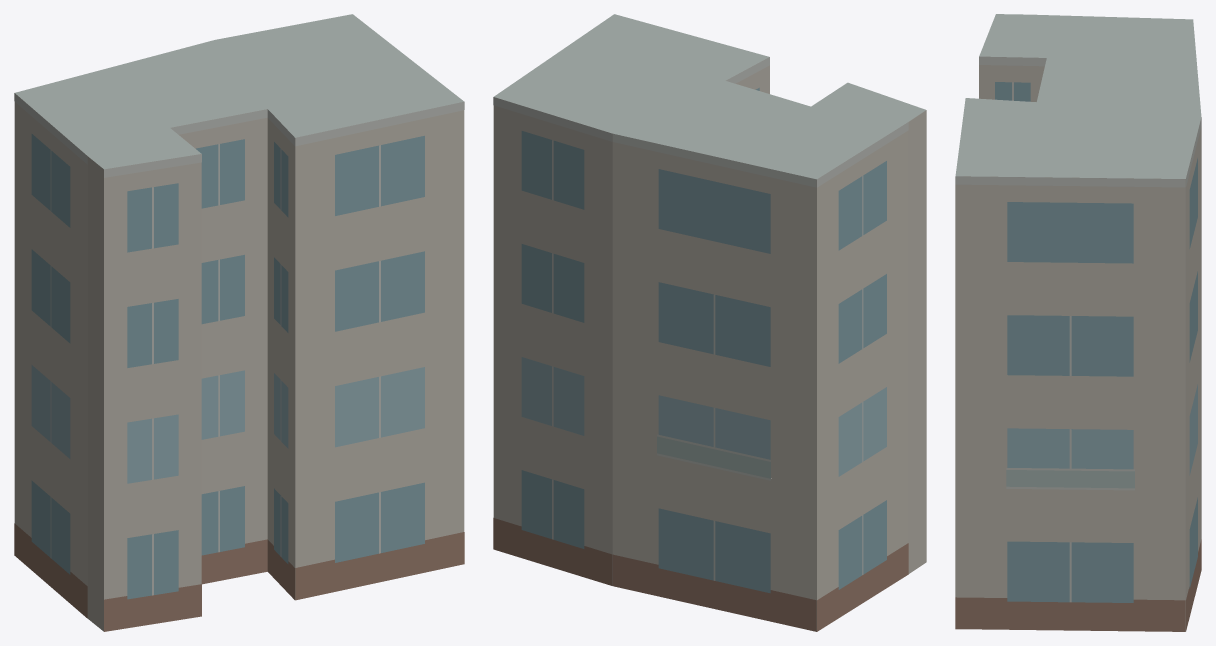
Rendered from survey-upis-32471755.glb.
The picture shows the model from 3 angles, left to right: view 1: azimuth 30°, elevation 25°; view 2: azimuth 150°, elevation 25°; view 3: azimuth 270°, elevation 25°; orthographic projection. The views are drawn at different scales.
Visible parts, largest first — view 1: survey-upis-32471755.tmp; view 2: survey-upis-32471755.tmp; view 3: survey-upis-32471755.tmp.
Part boxes in pixels (bbox=[...]): survey-upis-32471755.tmp: bbox=[14, 14, 464, 631]; survey-upis-32471755.tmp: bbox=[493, 14, 926, 631]; survey-upis-32471755.tmp: bbox=[955, 14, 1201, 631].
Size of the model in its own units: 10.33 by 13.2 by 6.51.
